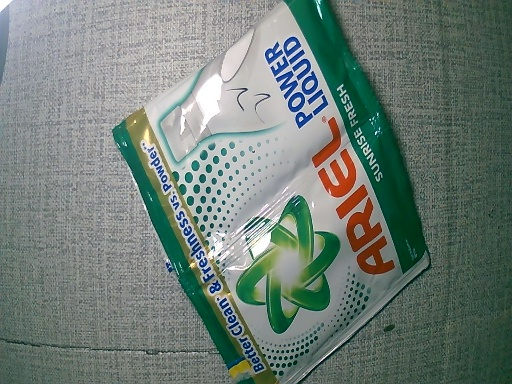plastic: (113, 1, 429, 384)
